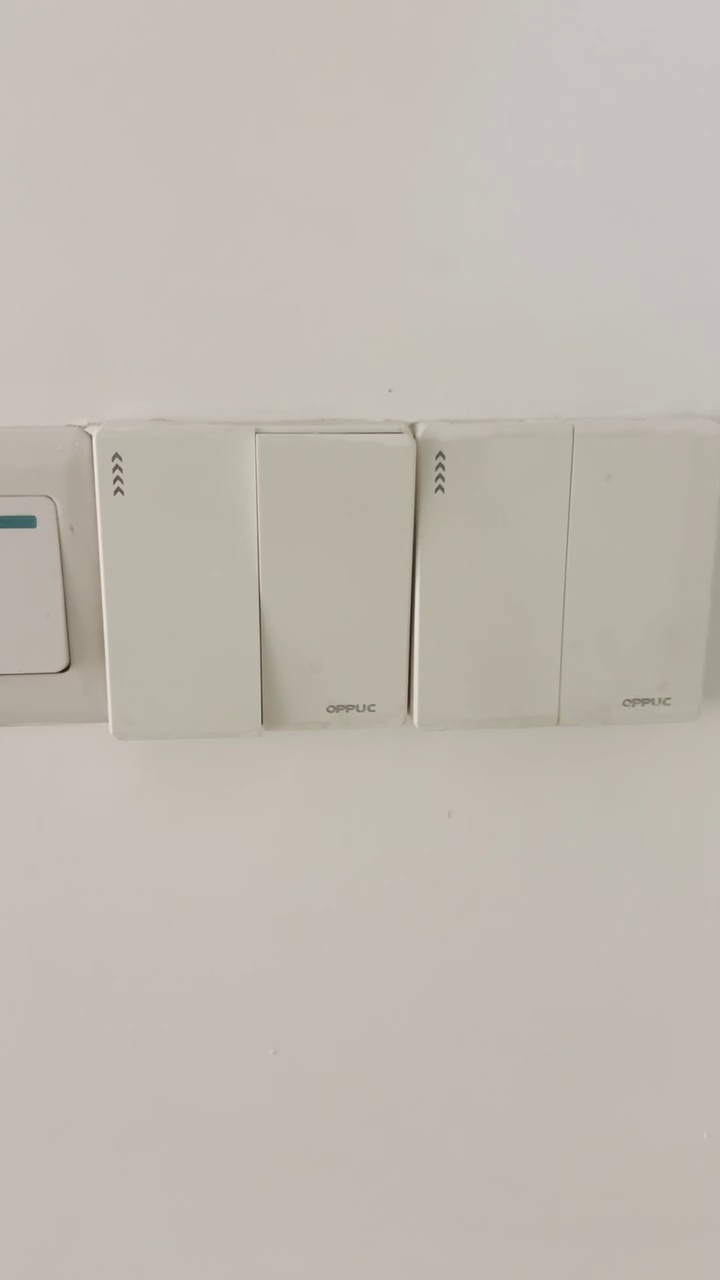button1: (94, 431, 258, 735), (259, 434, 410, 727), (421, 432, 561, 725), (567, 435, 711, 719)
